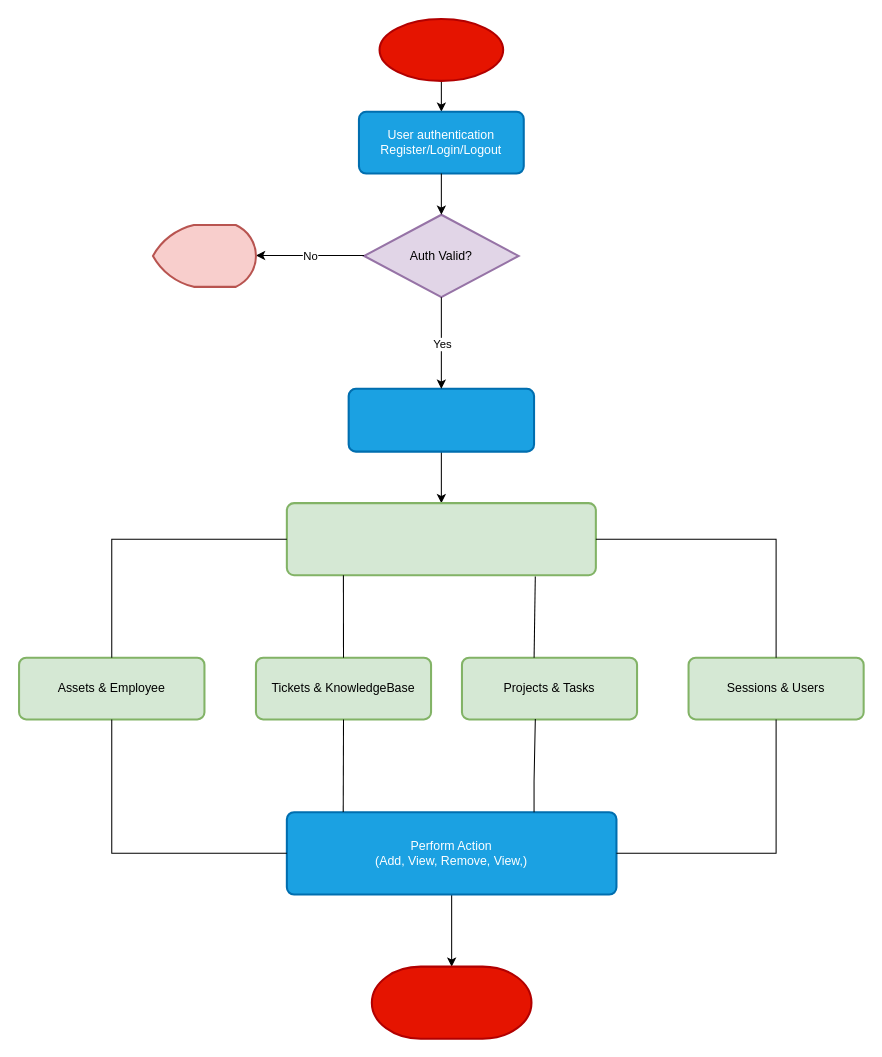
This 882x1057 diagram has some shape labels left out. Here are the shapes that lost their labels. From the top down, the box of each, then its label:
(378, 18, 504, 81): Start
(151, 224, 256, 287): Show Error
(347, 387, 535, 452): Dashboard & Reports Overview, alerts, activity log
(285, 502, 596, 576): Select Module
